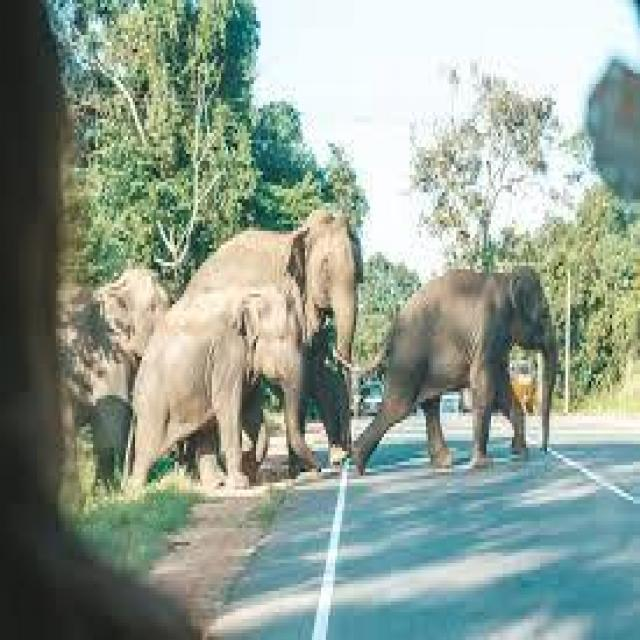Elephant: (356, 245, 565, 491), (132, 283, 338, 492), (32, 234, 172, 496), (175, 210, 366, 388)
